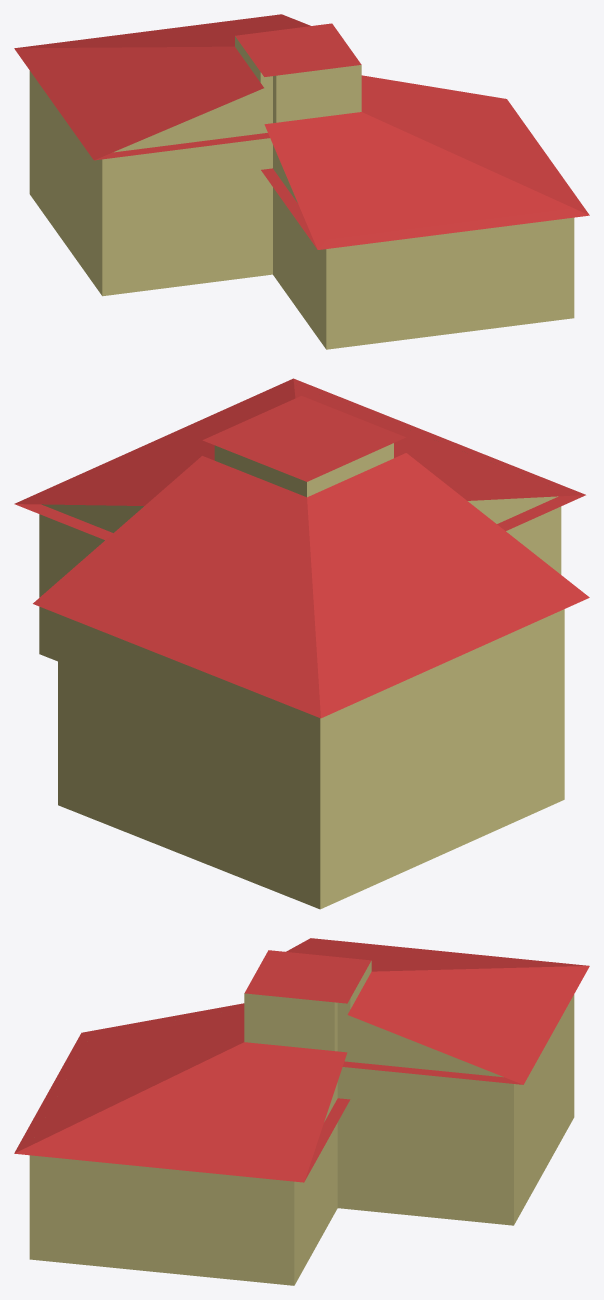
The picture shows the model from 3 angles, top to bottom: view 1: azimuth 30°, elevation 25°; view 2: azimuth 150°, elevation 25°; view 3: azimuth 270°, elevation 25°; orthographic projection. The views are drawn at different scales.
Bounding box in the file's own units: 18.71 × 22 × 8.9.
